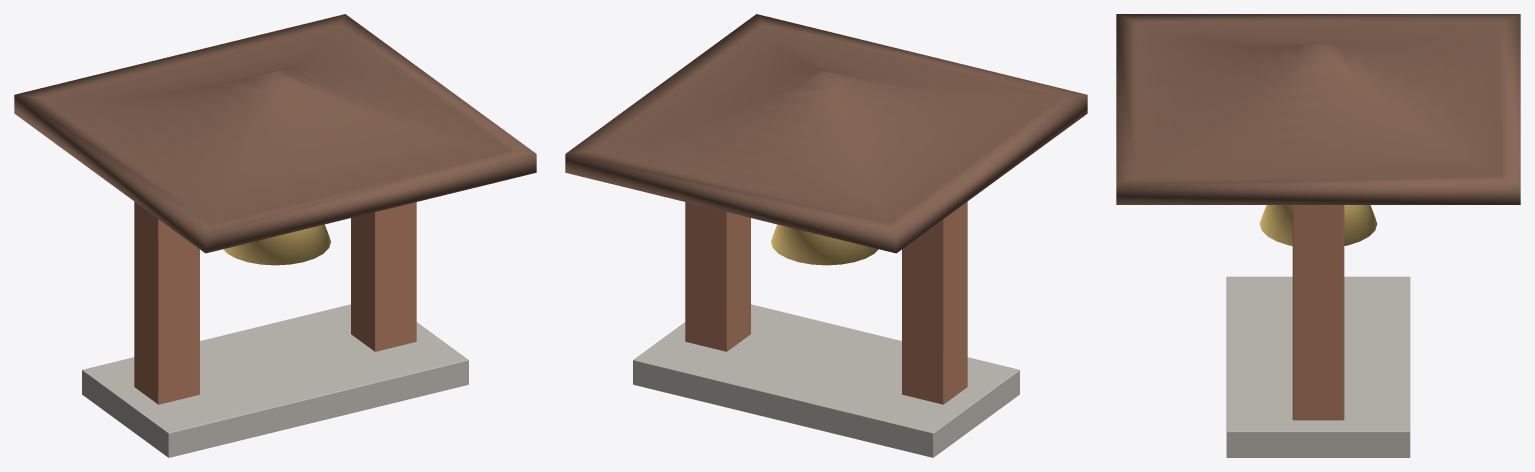
File: bell.glb
3 renders of one model, left to right at view 1: azimuth 30°, elevation 25°; view 2: azimuth 150°, elevation 25°; view 3: azimuth 270°, elevation 25°, orthographic. The views are drawn at different scales.
Visible parts, largest first — view 1: bell; view 2: bell; view 3: bell.
Boxes of the visible parts, x1,y1,x2,y2 form: bell: [14, 14, 536, 457]; bell: [565, 14, 1087, 457]; bell: [1116, 14, 1520, 457].
Size of the model in its own units: 1.1 by 1.01 by 1.1.
